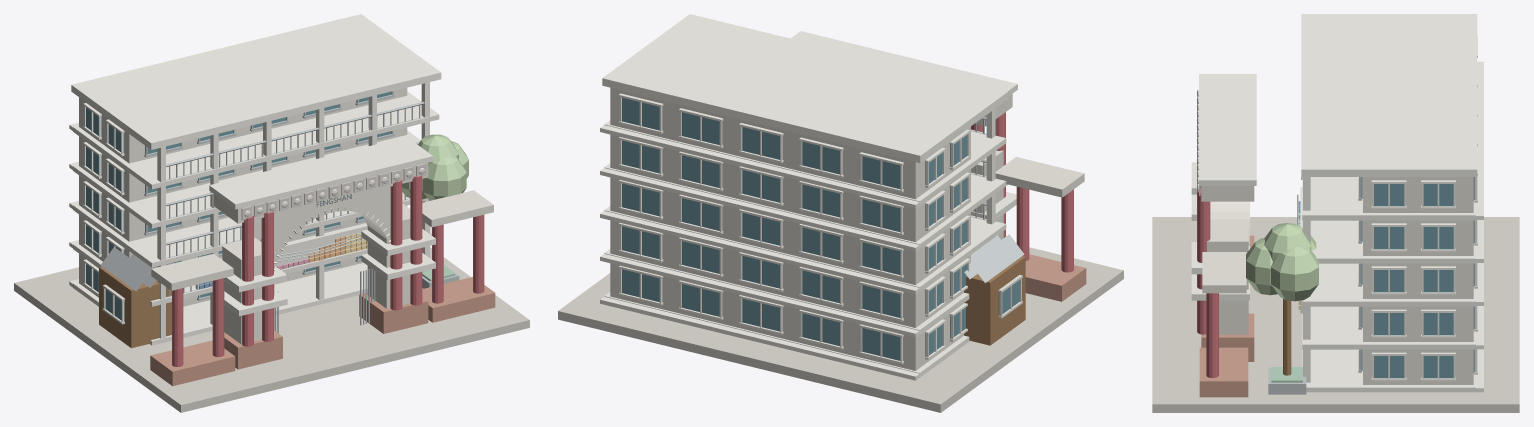
File: dot-X1.glb
The picture shows the model from 3 angles, left to right: view 1: azimuth 30°, elevation 25°; view 2: azimuth 150°, elevation 25°; view 3: azimuth 270°, elevation 25°; orthographic projection. The views are drawn at different scales.
Visible parts, largest first — view 1: pave; view 2: pave; view 3: pave.
Part boxes in pixels (x1,y1,x2,y2): pave: (14, 14, 529, 412); pave: (558, 14, 1123, 412); pave: (1152, 14, 1519, 412).
Size of the model in its own units: 6.09 by 3.51 by 5.03.
Materials: 1 (1 with a texture image).
